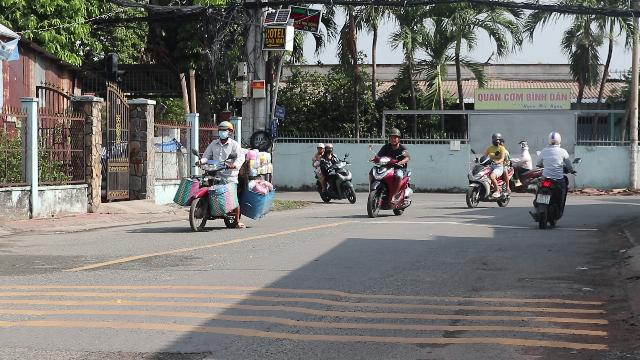helmet: (216, 120, 234, 140), (387, 128, 401, 144), (546, 131, 560, 146)
licenseplate: (536, 194, 550, 204)
motorcyclist: (182, 118, 248, 231), (365, 127, 415, 217), (530, 131, 570, 227)
